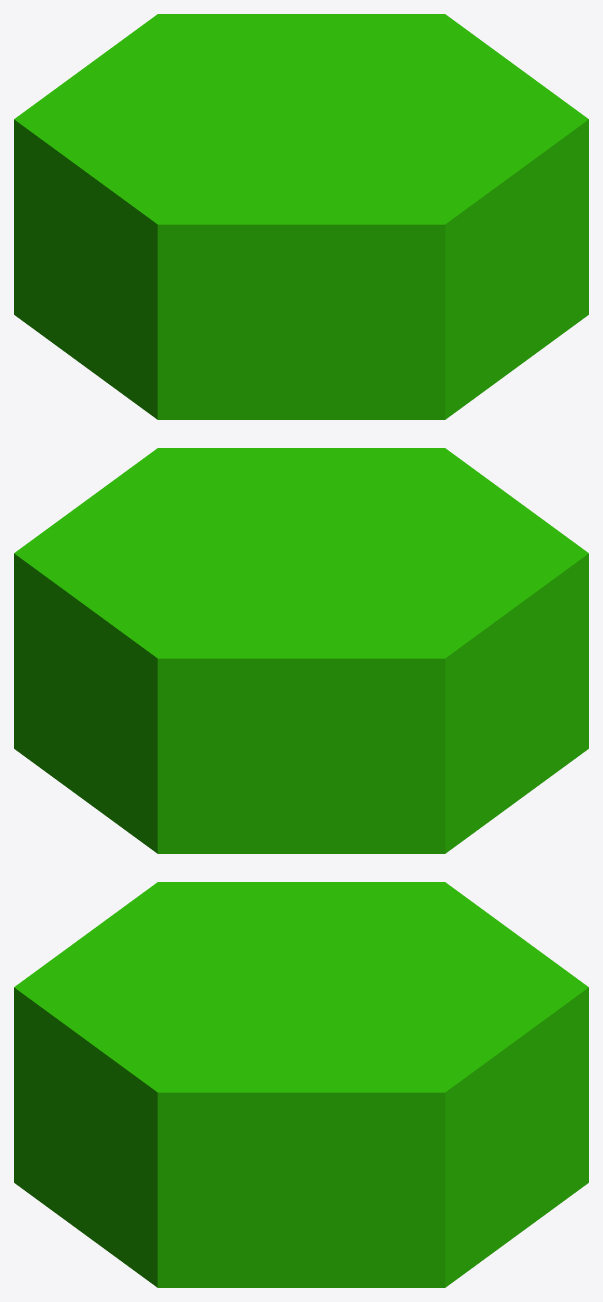
The model's file is hex_field.fbx.
3 renders of one model, top to bottom at view 1: azimuth 30°, elevation 25°; view 2: azimuth 150°, elevation 25°; view 3: azimuth 270°, elevation 25°, orthographic.
Visible parts, largest first — view 1: hex; view 2: hex; view 3: hex.
Part boxes in pixels (bbox=[...]): hex: bbox=[14, 14, 588, 419]; hex: bbox=[14, 448, 588, 853]; hex: bbox=[14, 882, 588, 1287].
Size of the model in its own units: 173 by 75 by 200.
